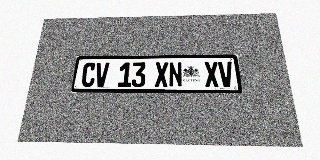1: (118, 62, 132, 87)
3: (131, 62, 146, 87)
C: (81, 63, 96, 87)
N: (169, 62, 182, 87)
V: (218, 61, 234, 87), (94, 62, 109, 87)
X: (204, 62, 219, 87), (155, 62, 168, 87)
